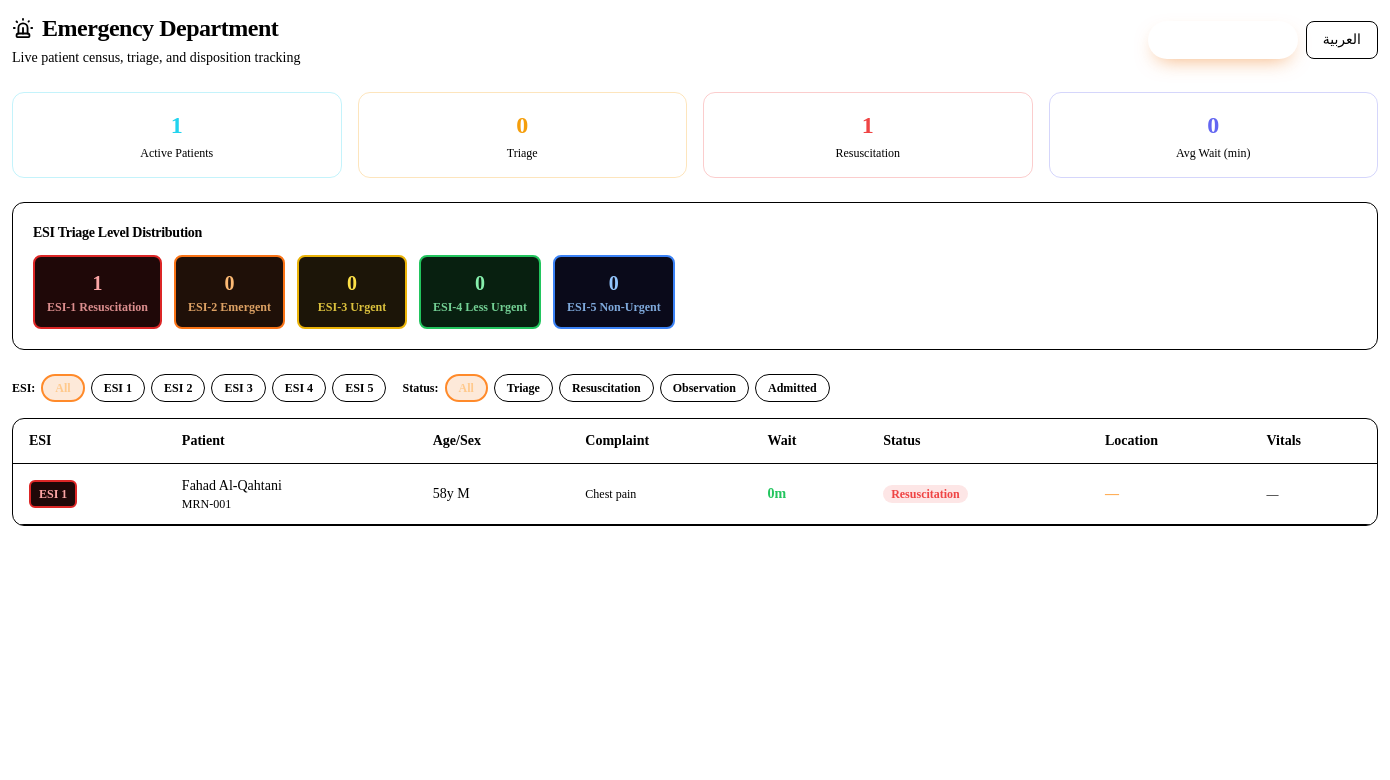
EmergencyPage › filtering by ESI level narrows the visible visits
The image size is (1390, 780).
Expected: the text "Fahad Al-Qahtani" is shown, [182,478,282,493]
Click the button "ESI 5".
click(359, 388)  # box [332,374,386,402]
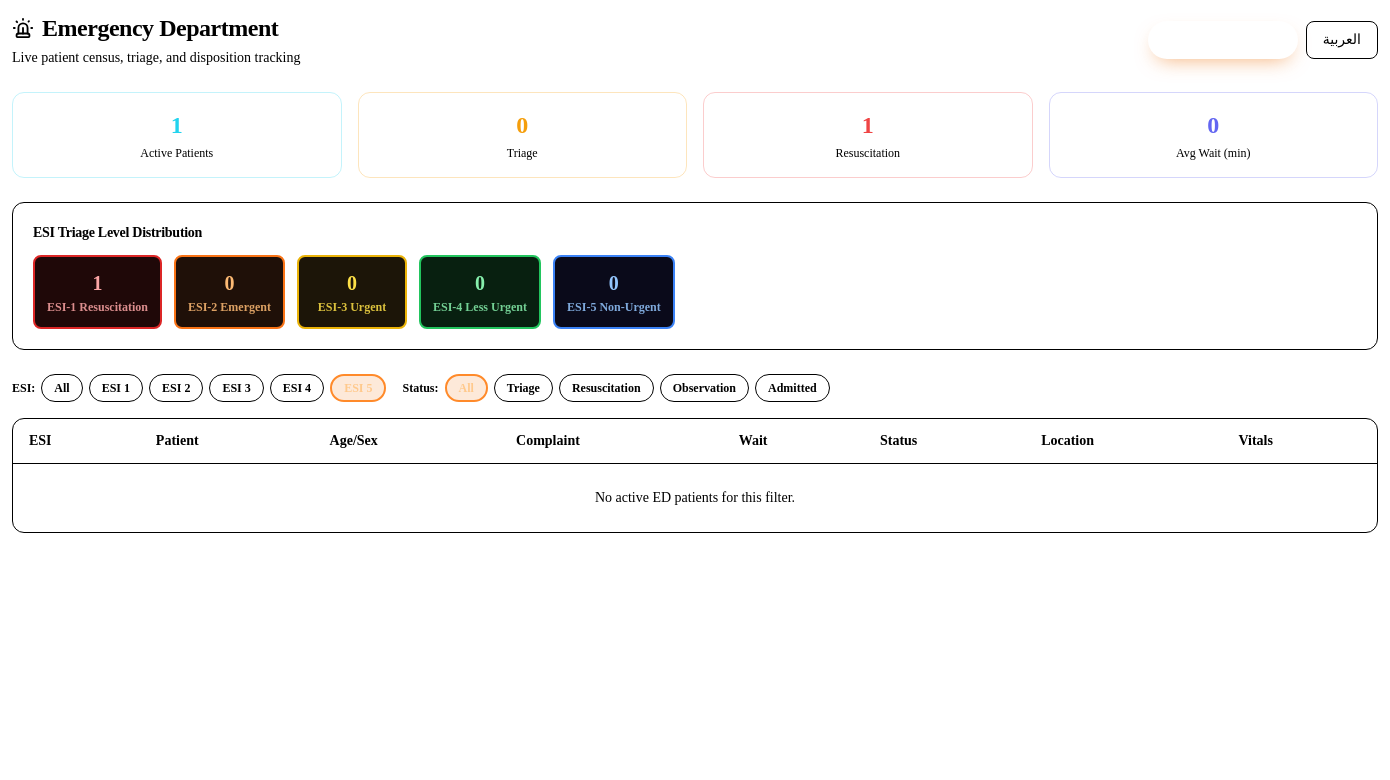
Result: the text "Fahad Al-Qahtani" is gone
